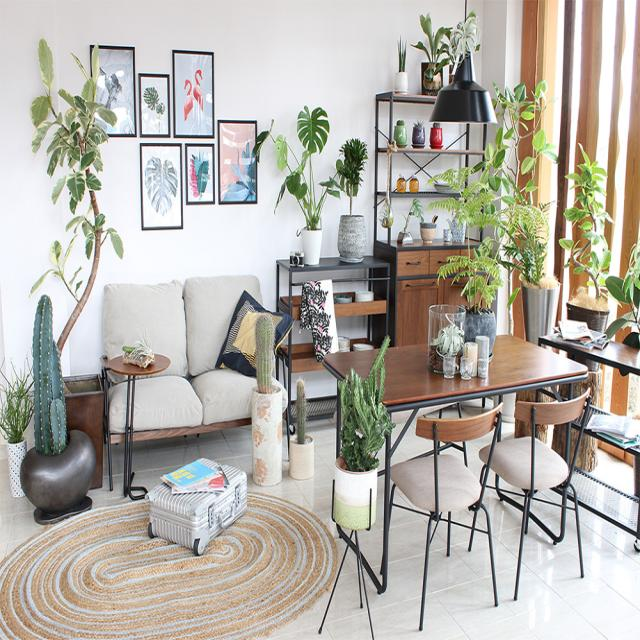vintage chair: (479, 386, 592, 602), (386, 404, 504, 610)
vintage desk: (320, 331, 590, 610)
vintage shelf: (374, 87, 489, 346), (276, 256, 390, 344)
vintage sofa: (98, 274, 296, 470)
